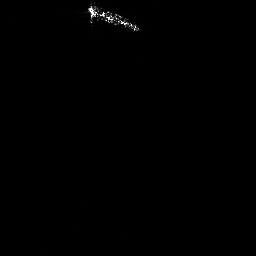ship: (85, 2, 144, 35)
